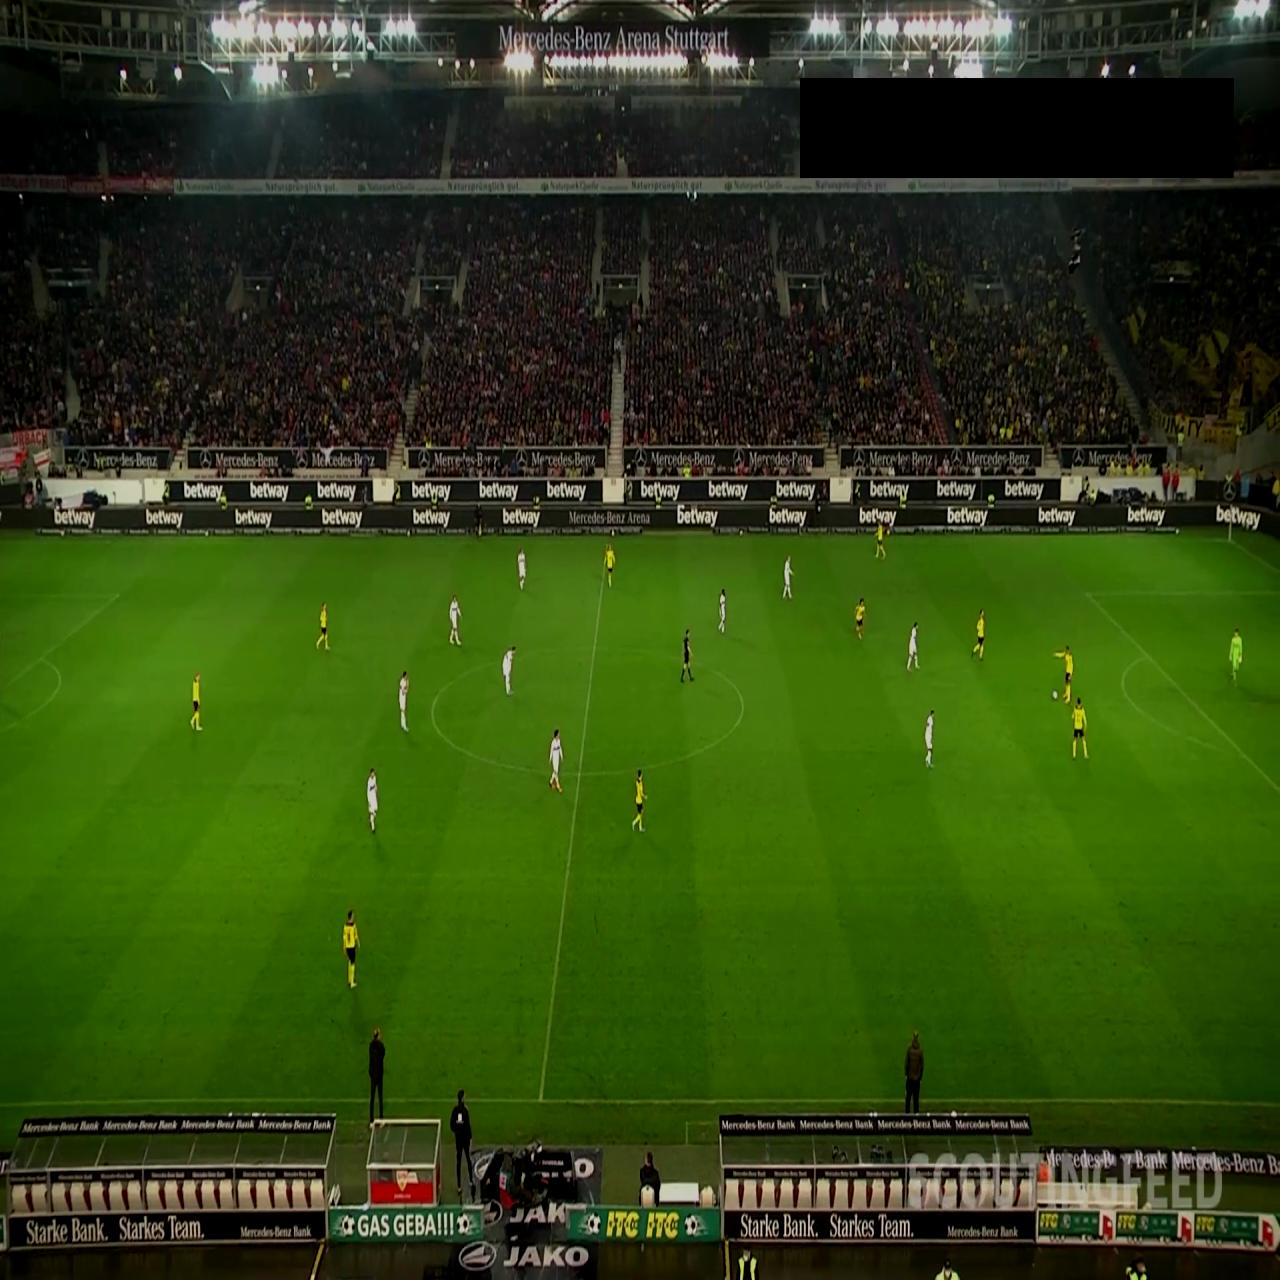ball: (1052, 688, 1059, 702)
goalkeeper: (1228, 626, 1242, 686)
player: (342, 908, 360, 989), (1053, 643, 1074, 703), (1072, 696, 1090, 760), (631, 768, 647, 833), (549, 728, 564, 793), (190, 670, 203, 731), (366, 767, 378, 833), (971, 608, 986, 660), (398, 668, 410, 732), (448, 594, 462, 646), (502, 644, 516, 696), (906, 621, 920, 671), (316, 600, 329, 650), (924, 709, 935, 768), (603, 542, 616, 589), (783, 554, 794, 600), (855, 596, 866, 641), (874, 523, 887, 559), (517, 546, 527, 590), (718, 587, 727, 634)
referee: (680, 628, 694, 683), (474, 496, 485, 541)
